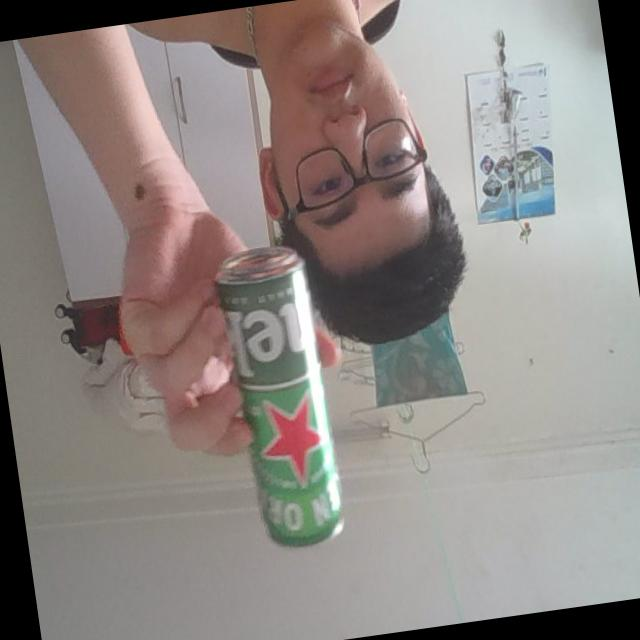Heineken: (211, 244, 349, 556)
